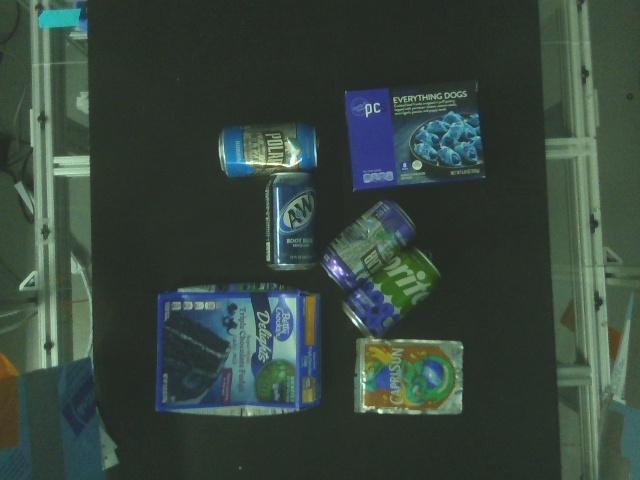cardboard: (153, 284, 323, 419), (343, 81, 488, 191)
metal: (343, 249, 441, 339), (324, 197, 415, 288), (215, 123, 322, 177), (266, 173, 319, 273)
plastic: (353, 337, 465, 419)
